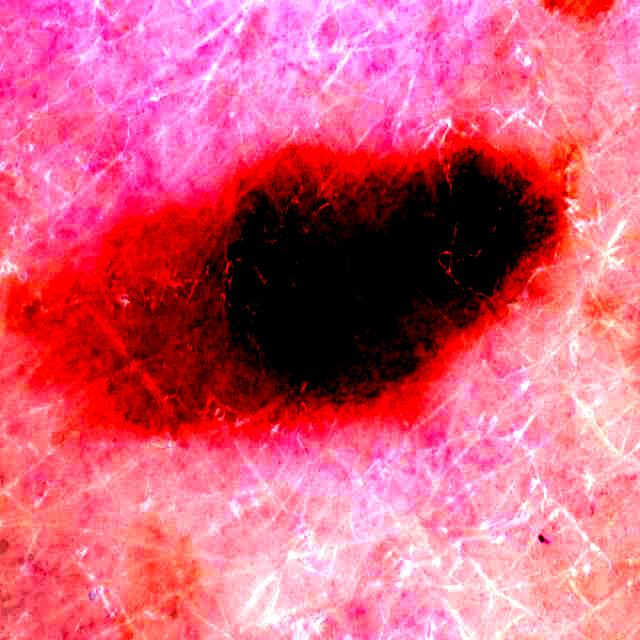NV: (73, 148, 562, 422)
